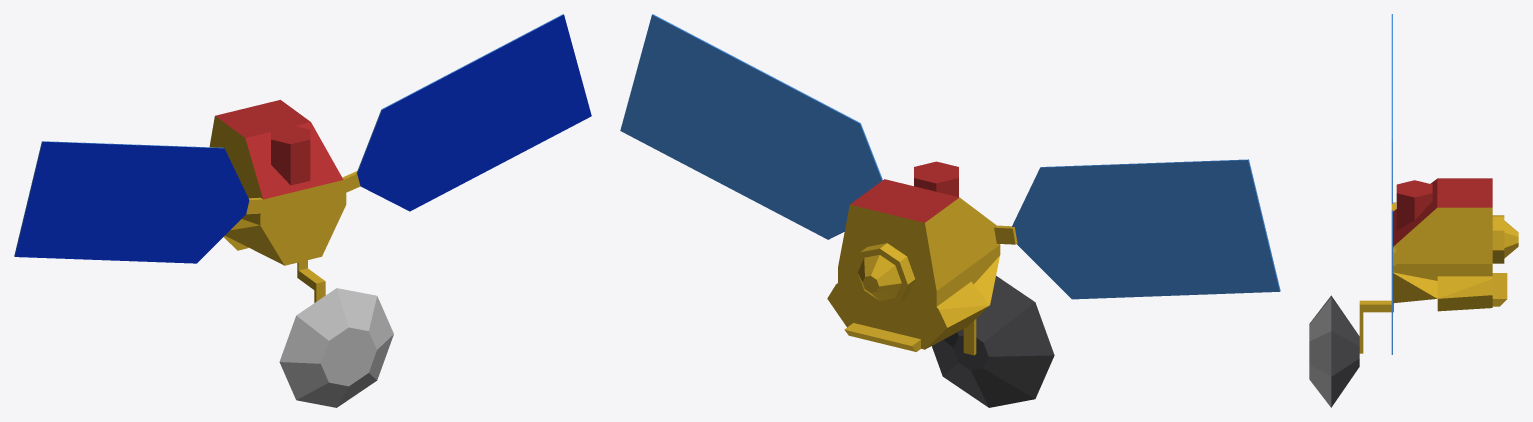
File: MRO_highfidelity.dae
3 views of the same model, side by side, from view 1: azimuth 30°, elevation 25°; view 2: azimuth 150°, elevation 25°; view 3: azimuth 270°, elevation 25° (orthographic). The views are drawn at different scales.
Visible parts, largest first — view 1: BUS_highfidelity_test; view 2: BUS_highfidelity_test; view 3: BUS_highfidelity_test.
Boxes of the visible parts, x1=… form: BUS_highfidelity_test: x1=14, y1=14, x2=591, y2=407; BUS_highfidelity_test: x1=620, y1=14, x2=1280, y2=407; BUS_highfidelity_test: x1=1309, y1=14, x2=1518, y2=407.
Bounding box in the file's own units: 519 × 180 × 262.
